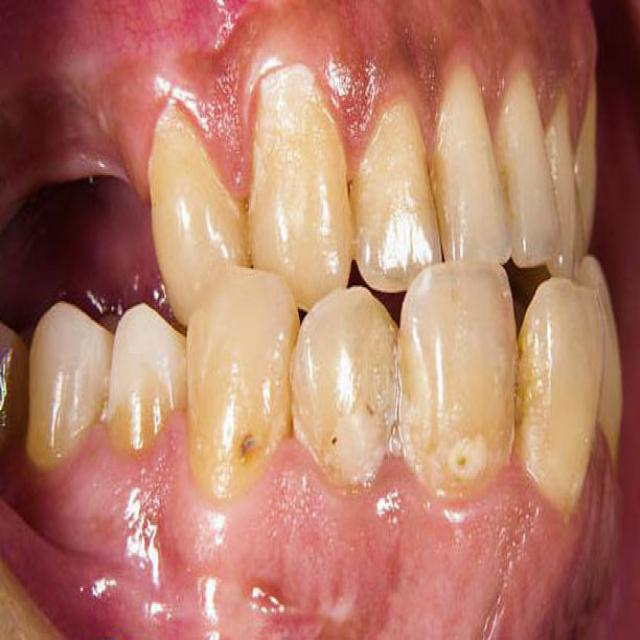caries: (233, 420, 262, 464)
